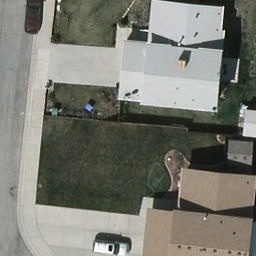car: (26, 0, 44, 37)
